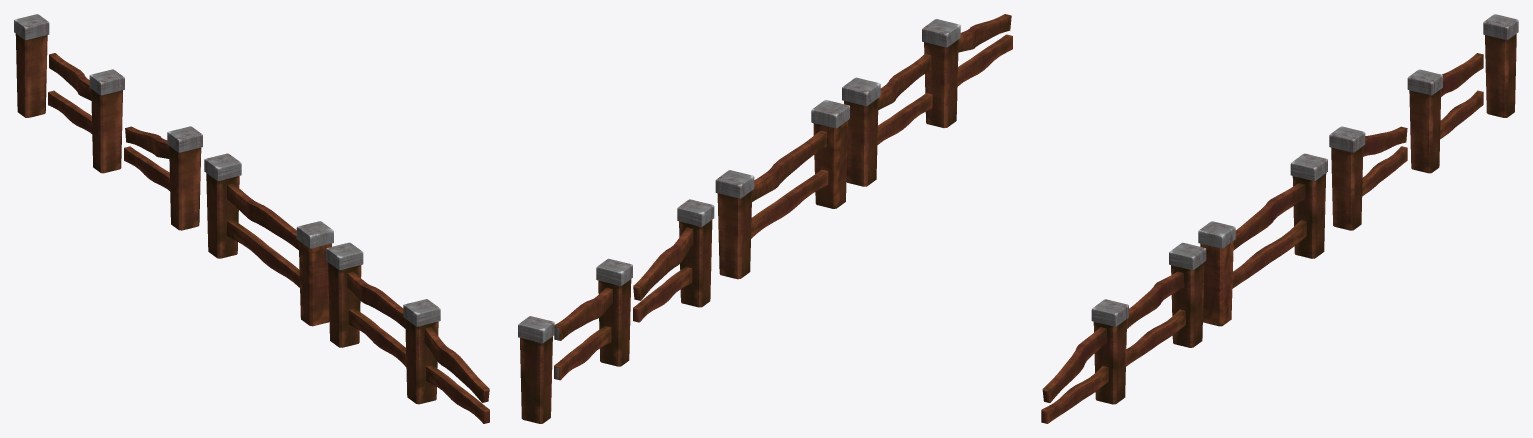
File: hekje.fbx
3 views of the same model, side by side, from view 1: azimuth 30°, elevation 25°; view 2: azimuth 150°, elevation 25°; view 3: azimuth 330°, elevation 25° (orthographic). The views are drawn at different scales.
Parts seen in each view (by area): view 1: polySurface68, polySurface85, polySurface80, polySurface75, polySurface86, polySurface82; view 2: polySurface68, polySurface80, polySurface75, polySurface85, polySurface86, polySurface82; view 3: polySurface68, polySurface85, polySurface80, polySurface75, polySurface86, polySurface82.
Boxes of the visible parts, x1,y1,x2,y2 form: polySurface68: (204, 153, 333, 326); polySurface85: (403, 299, 489, 423); polySurface80: (326, 242, 406, 366); polySurface75: (124, 126, 202, 230); polySurface86: (48, 53, 124, 173); polySurface82: (14, 14, 49, 117); polySurface68: (715, 100, 849, 279); polySurface80: (842, 54, 932, 186); polySurface75: (633, 199, 714, 322); polySurface85: (922, 14, 1012, 127); polySurface86: (554, 258, 632, 380); polySurface82: (518, 316, 554, 423); polySurface68: (1198, 153, 1327, 326); polySurface85: (1041, 299, 1128, 423); polySurface80: (1126, 242, 1206, 366); polySurface75: (1329, 126, 1407, 230); polySurface86: (1407, 53, 1483, 173); polySurface82: (1483, 14, 1518, 117).
Bounding box in the file's own units: 0.7166 × 2.56 × 23.35.
